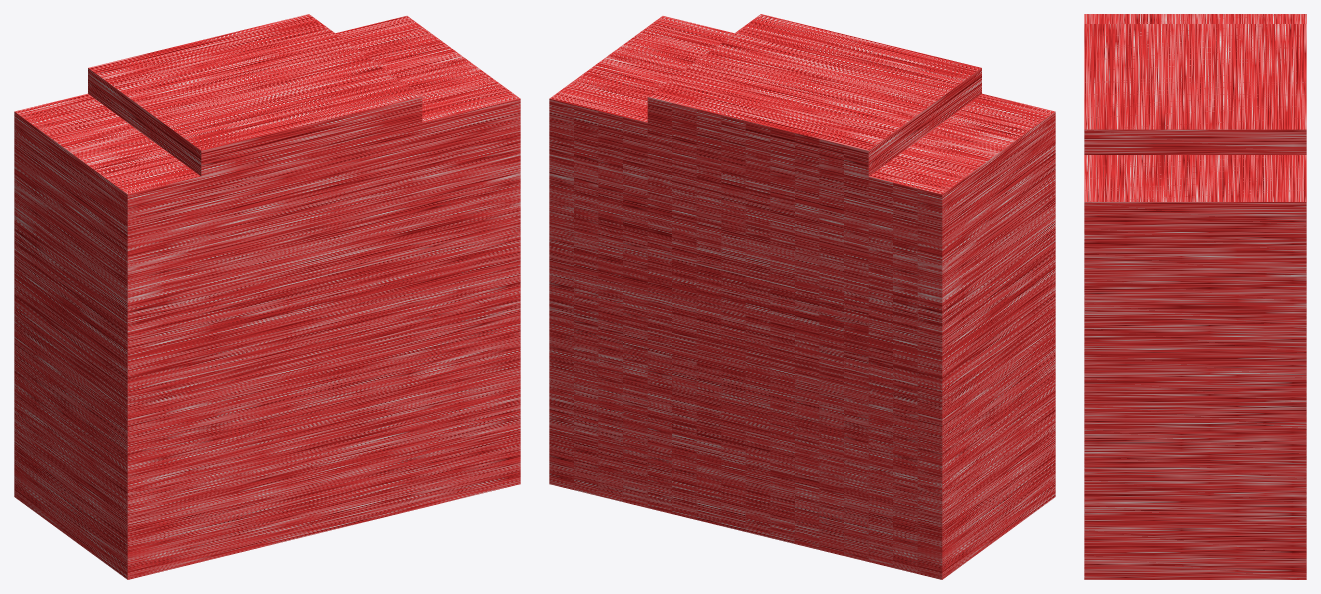
Rendered from tier3_piece_01.obj.
3 renders of one model, left to right at view 1: azimuth 30°, elevation 25°; view 2: azimuth 150°, elevation 25°; view 3: azimuth 270°, elevation 25°, orthographic.
Visible parts, largest first — view 1: tier3_piece_01; view 2: tier3_piece_01; view 3: tier3_piece_01.
Part boxes in pixels (x1,y1,x2,y2): tier3_piece_01: [14, 14, 520, 579]; tier3_piece_01: [549, 14, 1055, 579]; tier3_piece_01: [1084, 14, 1306, 579].
Size of the model in its own units: 1 by 1 by 0.5.
